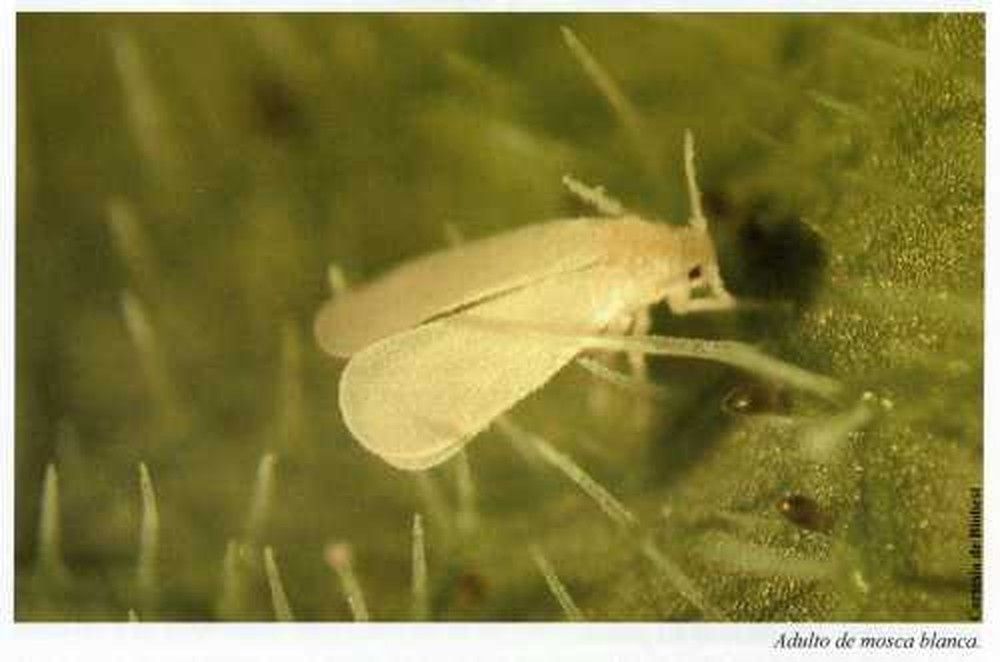Mosca Blanca: (294, 150, 804, 465)
